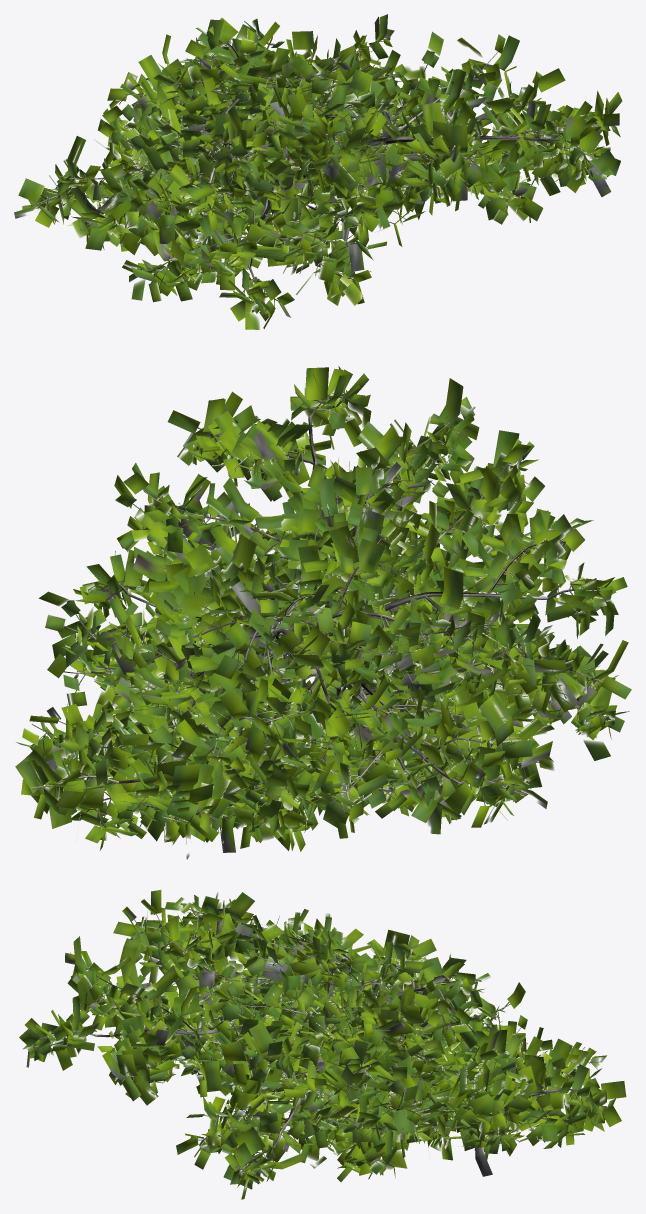
Rendered from kust.glb.
3 views of the same model, one above another, from view 1: azimuth 30°, elevation 25°; view 2: azimuth 150°, elevation 25°; view 3: azimuth 270°, elevation 25° (orthographic). The views are drawn at different scales.
Visible parts, largest first — view 1: Wild Alpine Shrub Evergreen, Wild Alpine Shrub Evergreen.001; view 2: Wild Alpine Shrub Evergreen, Wild Alpine Shrub Evergreen.001; view 3: Wild Alpine Shrub Evergreen, Wild Alpine Shrub Evergreen.001.
Boxes of the visible parts, x1,y1,x2,y2 form: Wild Alpine Shrub Evergreen: (14, 14, 622, 329); Wild Alpine Shrub Evergreen.001: (15, 20, 610, 329); Wild Alpine Shrub Evergreen: (15, 366, 631, 858); Wild Alpine Shrub Evergreen.001: (24, 385, 627, 858); Wild Alpine Shrub Evergreen: (19, 890, 626, 1199); Wild Alpine Shrub Evergreen.001: (23, 895, 606, 1198).
Bounding box in the file's own units: 6.71 × 3.06 × 8.1.
Materials: 2 (2 with a texture image).
